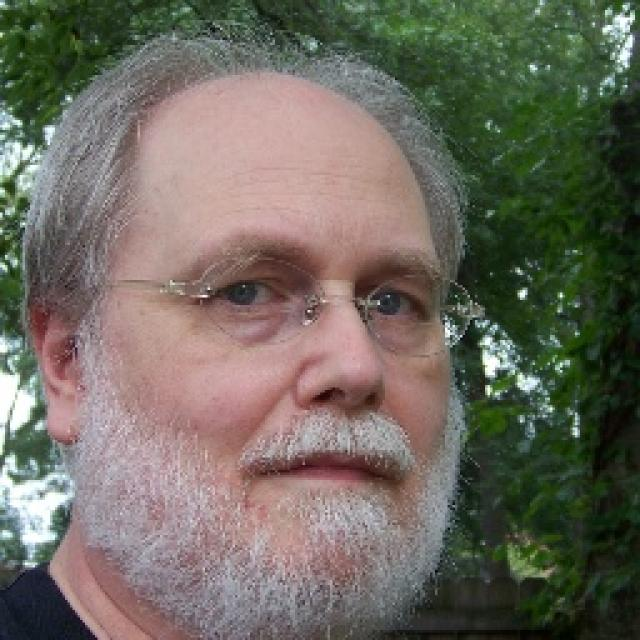earlobe: (47, 394, 88, 445)
eye: (212, 280, 286, 307), (363, 290, 427, 320)
nose: (295, 394, 382, 435)
wholeear: (25, 280, 89, 446)
